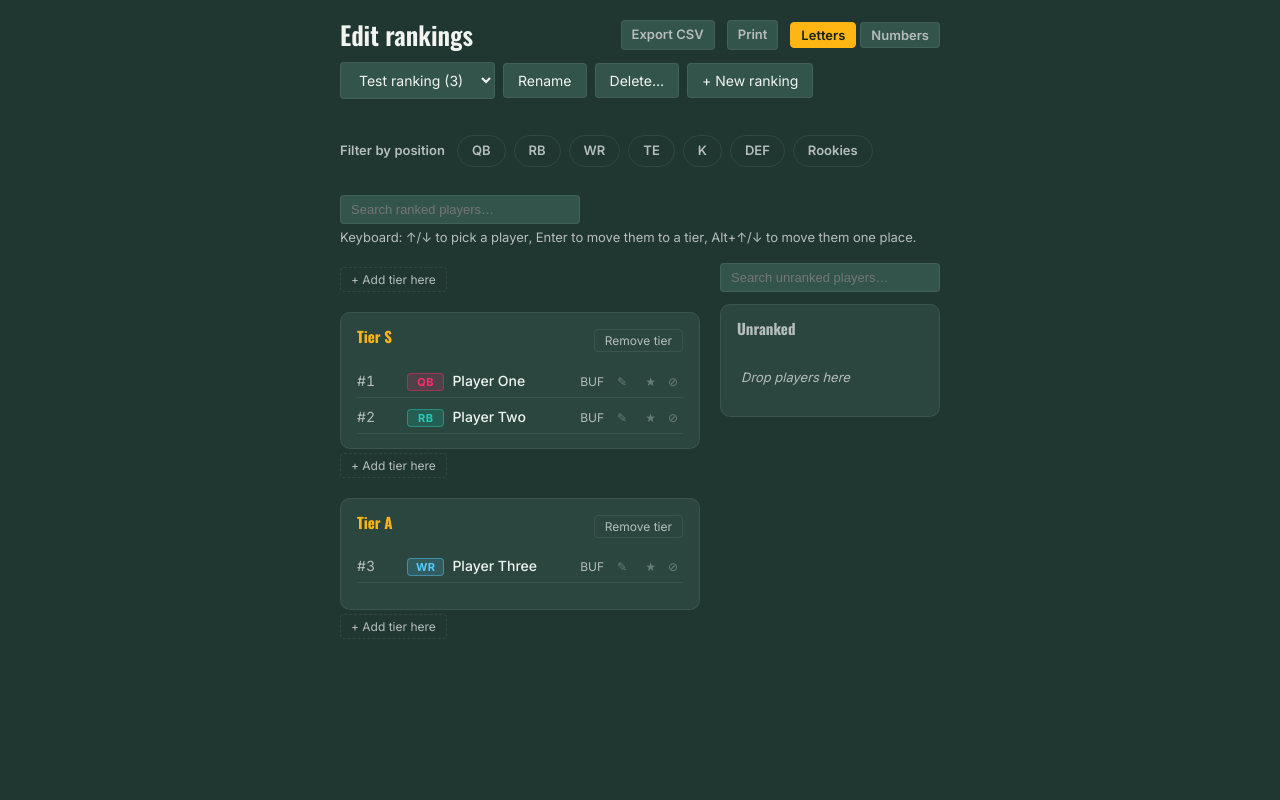
RankingEditorPage › adds, edits and clears a ranked player's note
The image size is (1280, 800).
Expected: the text "Player One" is shown, [452,370,525,391]
Click the button named "Add note on Player One". click: (622, 382)
box: [612,373,632,391]
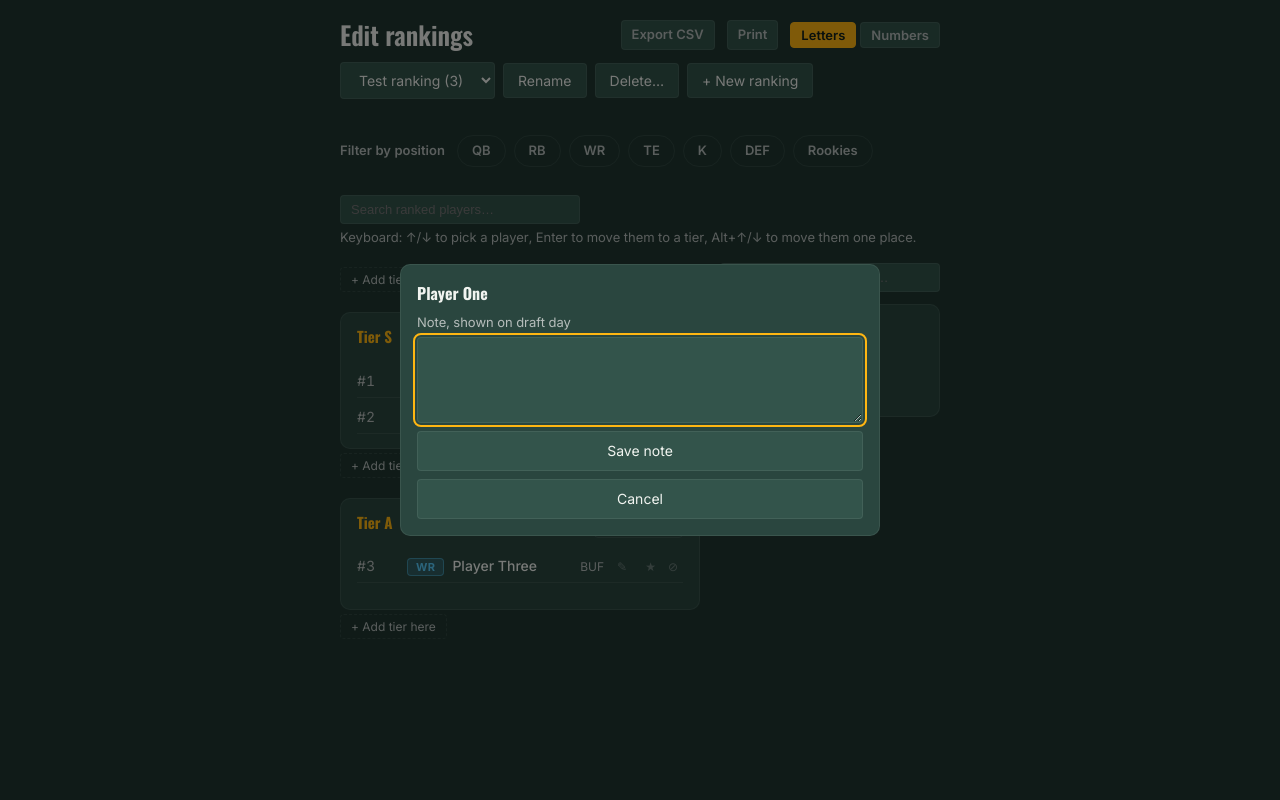
Type "  Injury risk " into the text box. click: (640, 380)
box: [417,337,863,423]
Click the button "Save note". click: (640, 451)
box: [417,431,863,471]
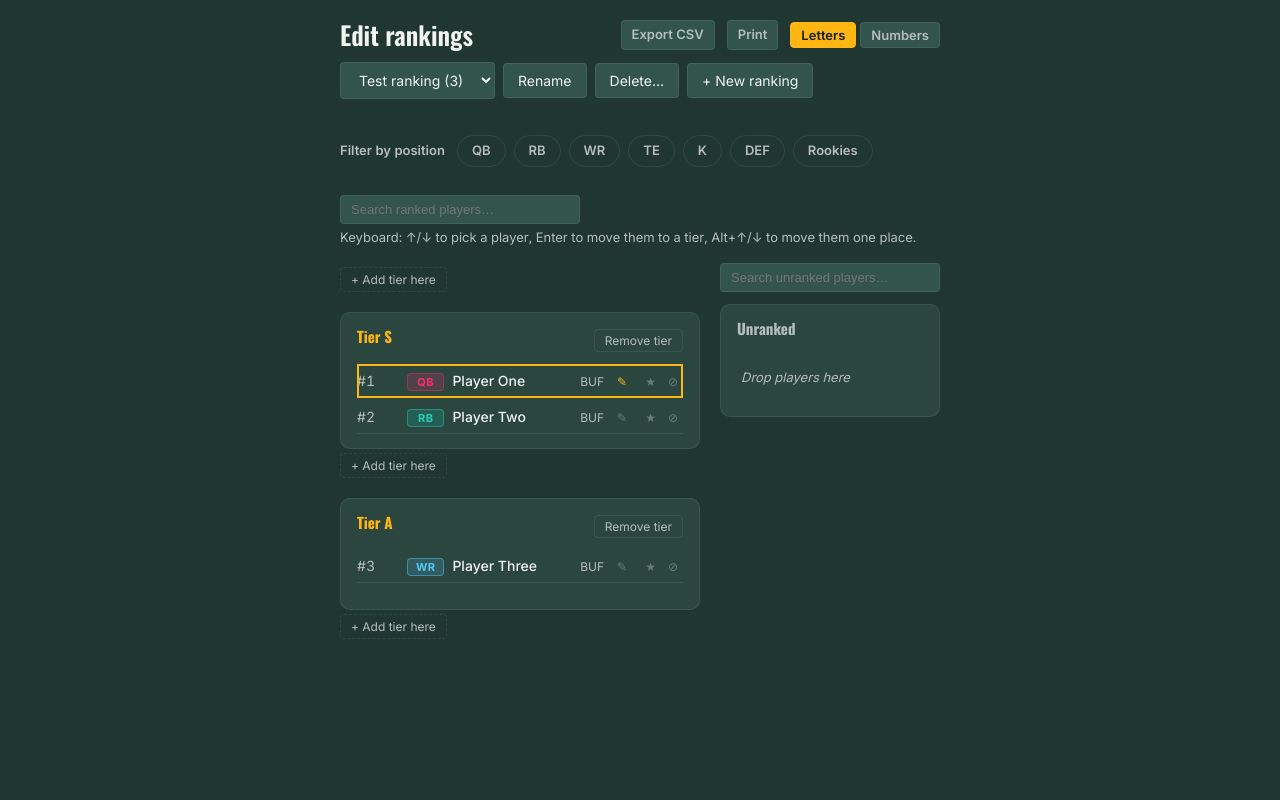
Result: the dialog is gone
# Ctrl+Enter saves from the keyboard.
Click the button named "Edit note on Player One". click: (622, 382)
box: [612,373,632,391]
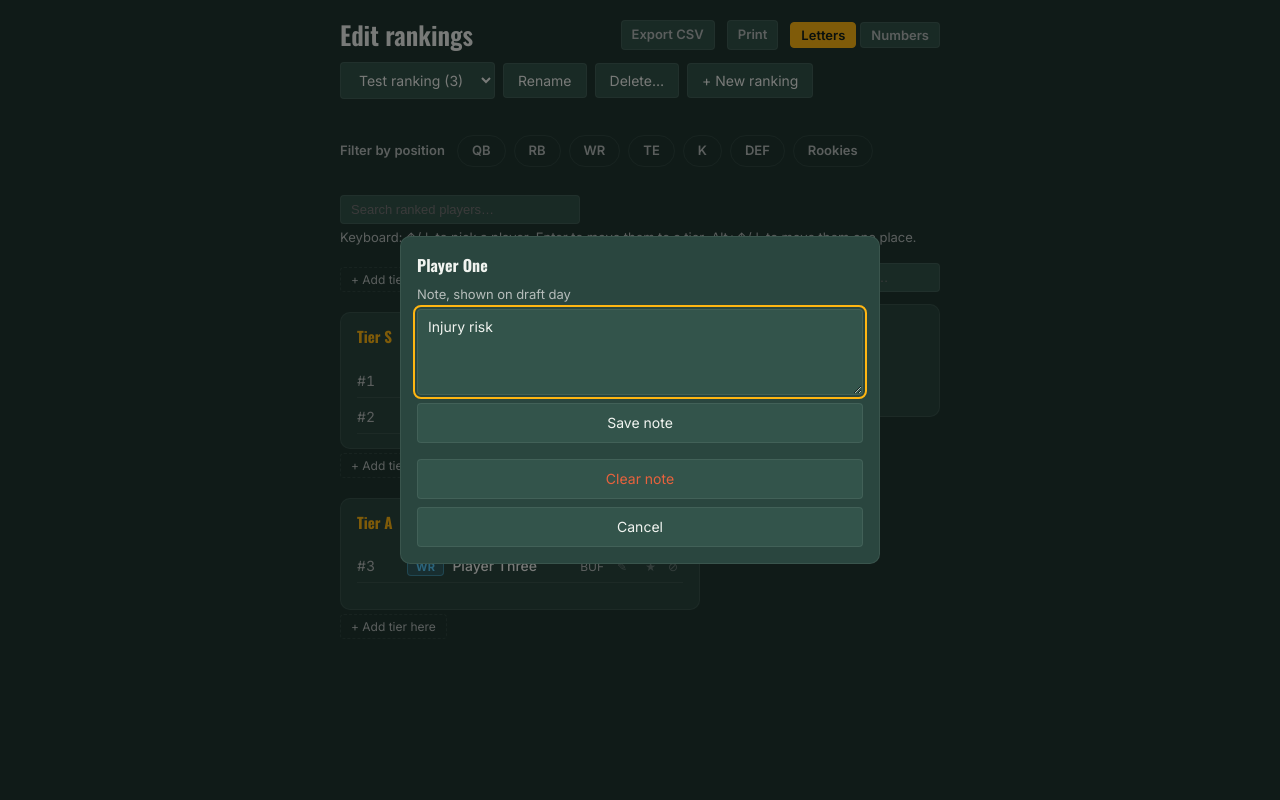
Result: the text box holds "Injury risk"
Replace the text in the text box with "New OC". click: (640, 352)
box: [417,309,863,395]
Press Enter in the text box, box [417,309,863,395]
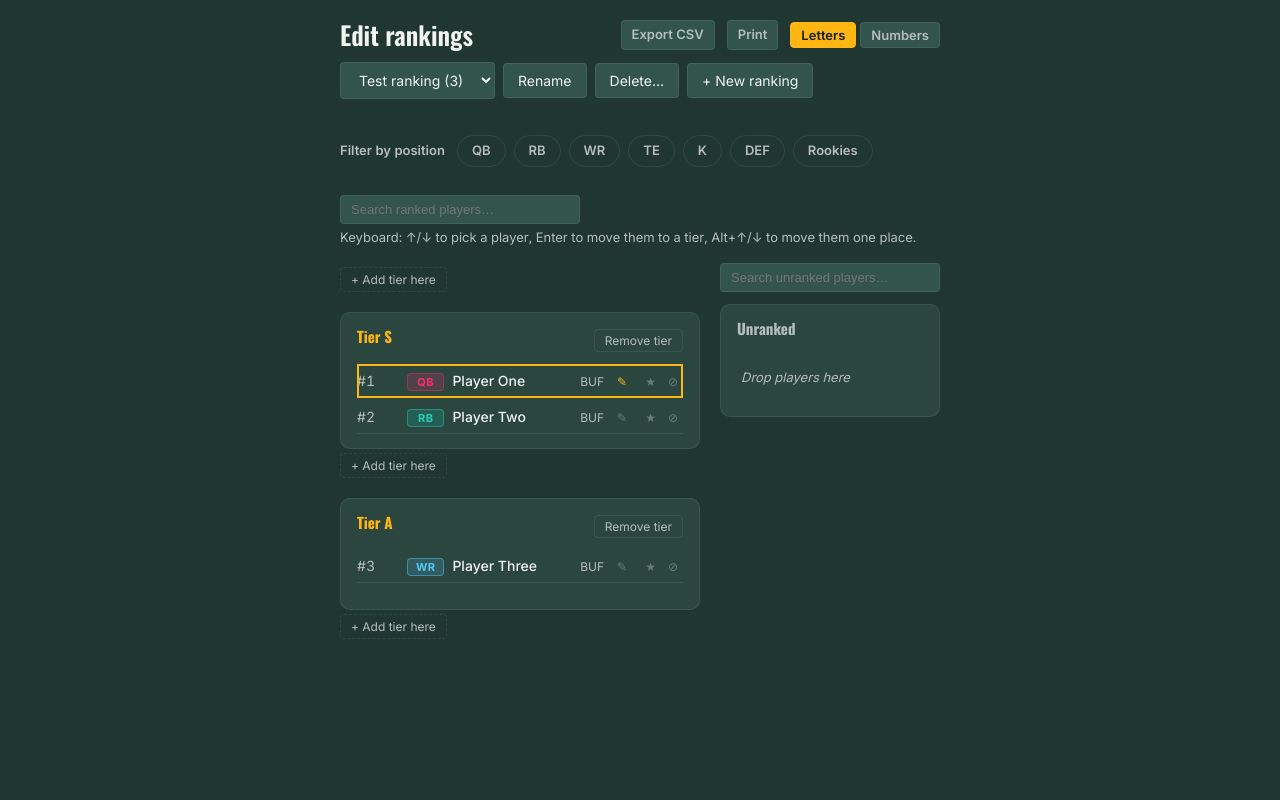
Result: the button named "Edit note on Player One" has attribute title="New OC"
Click the button named "Edit note on Player One". click: (622, 382)
box: [612,373,632,391]
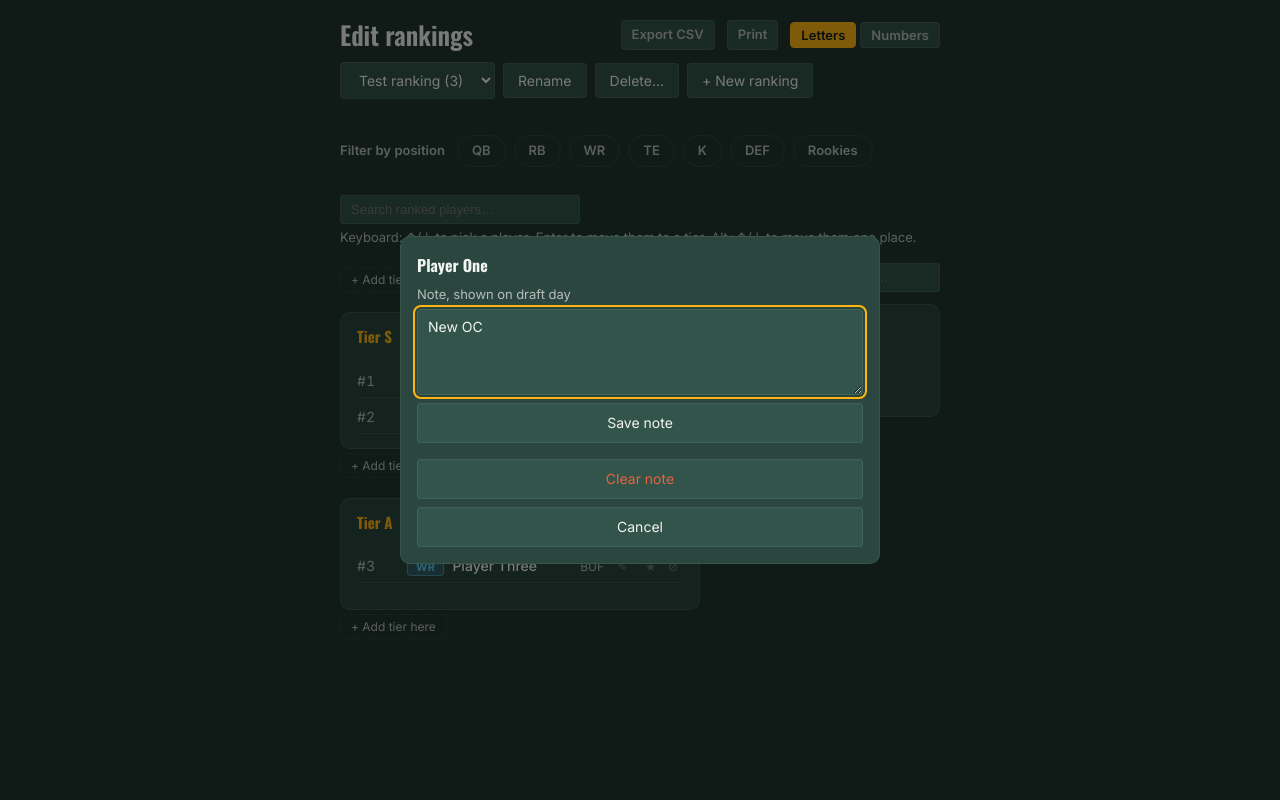
Click the button "Clear note". click: (640, 479)
box: [417,459,863,499]
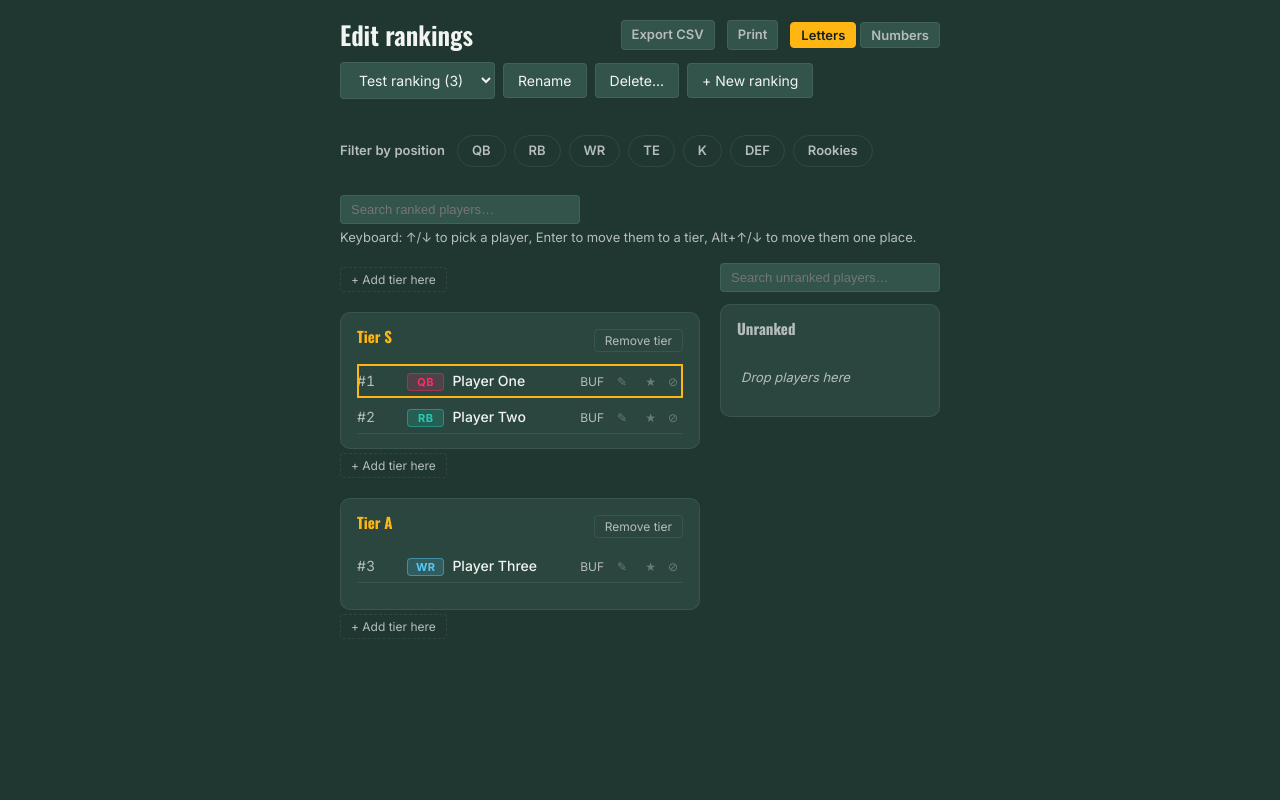
Result: the button named "Add note on Player One" is shown at [612,373,632,391]
